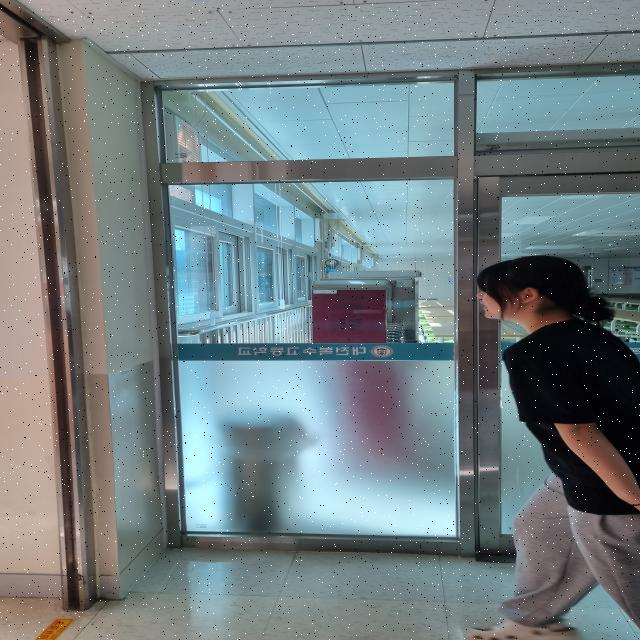logo: (368, 344, 396, 358)
